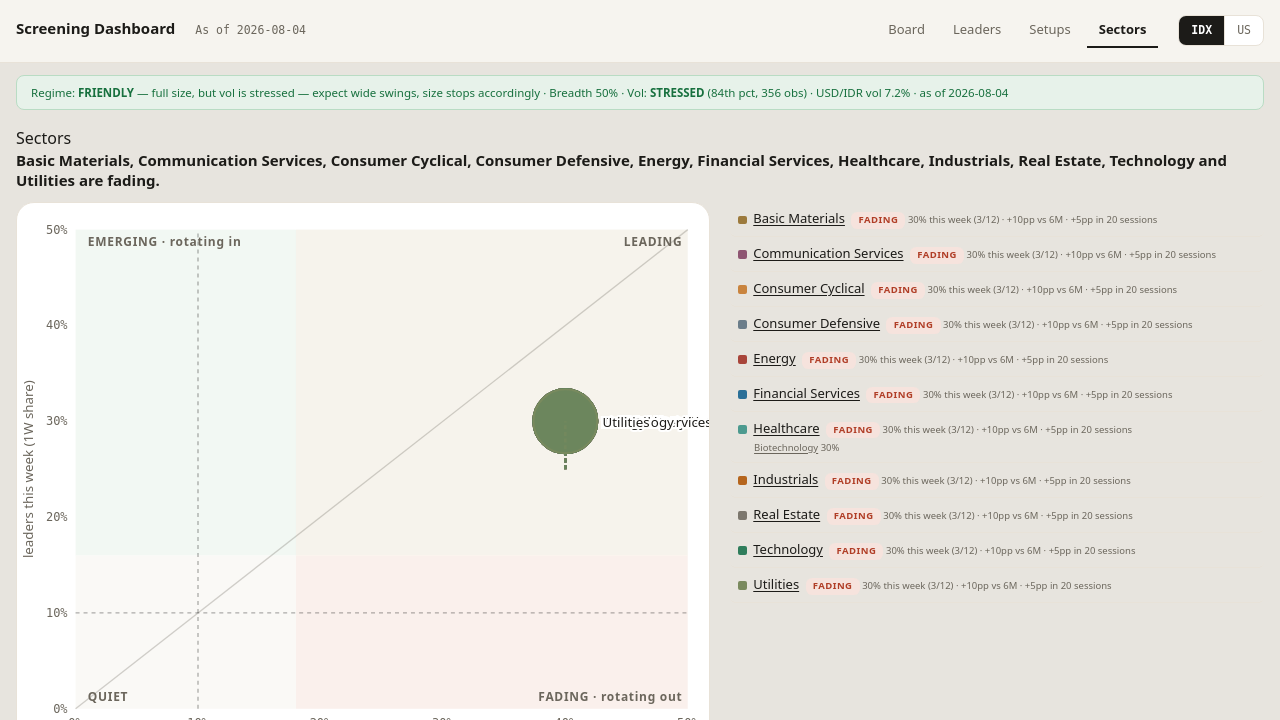
Scenario: Sectors — click-through into detail (spec §5.4/§5.5) › drills a leading industry into its PARENT sector
The image size is (1280, 720).
Expected: the heading "Sectors" is shown, [16,127,71,149]
What coordinates should you click on to do the following:
click the button "Biotechnology"
I would click on:
 (786, 448)
Its box is [754,441,818,455].
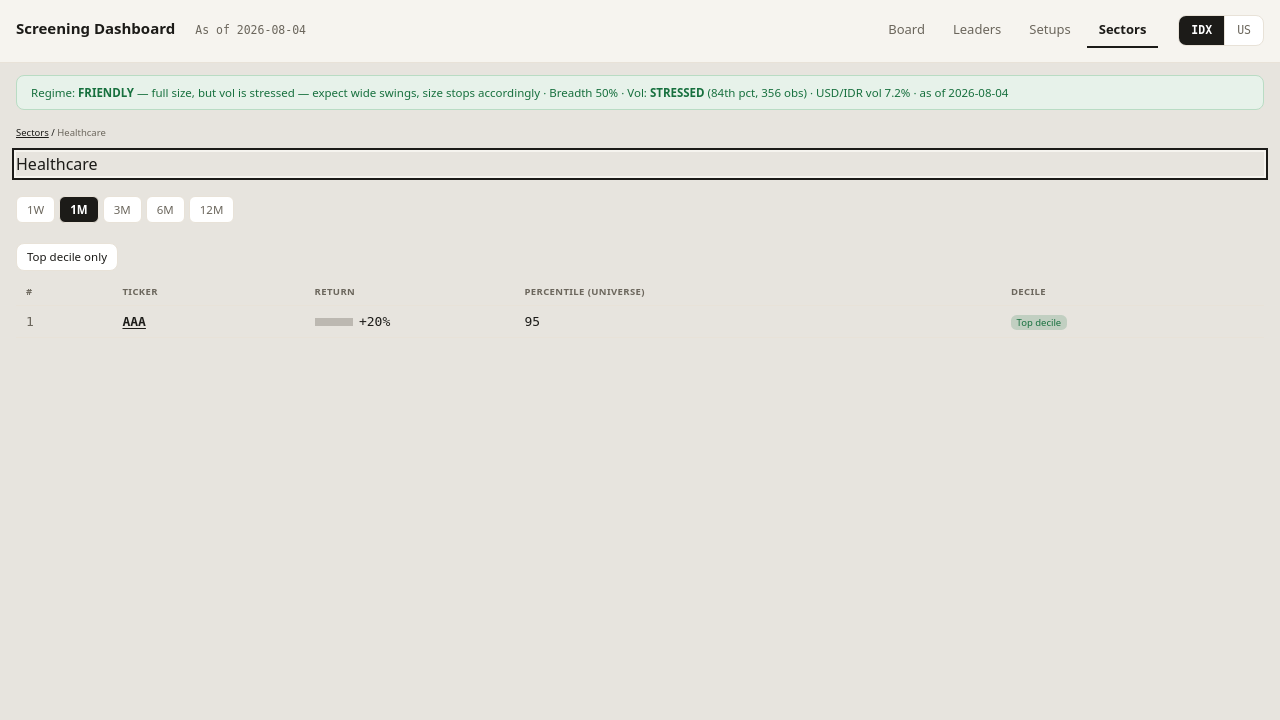
Result: the heading "Healthcare" is shown at [16,152,1264,176]
